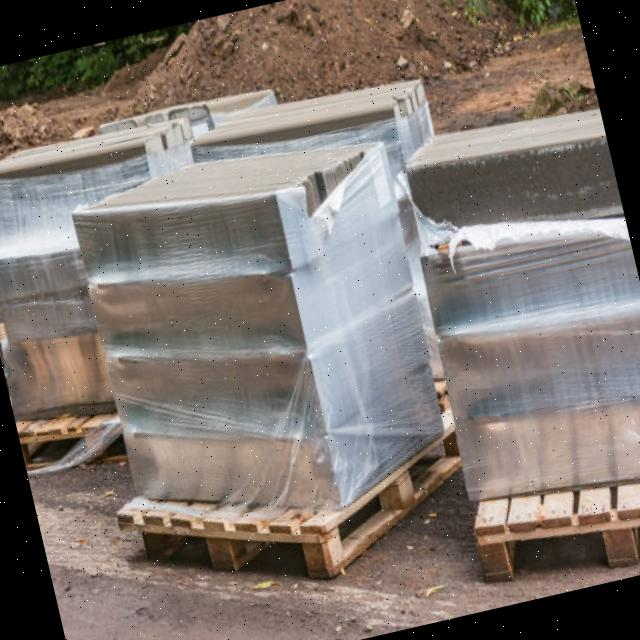Wooden-Pallets: (121, 422, 465, 580), (473, 482, 640, 585)
